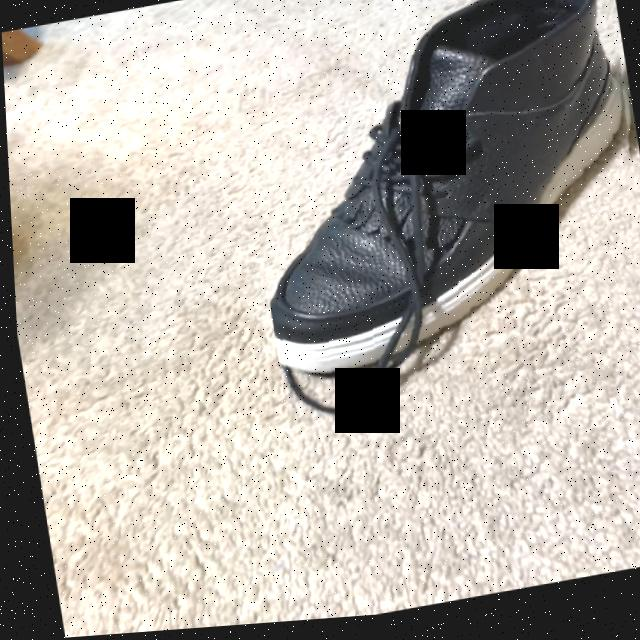shoe: (266, 0, 626, 422)
